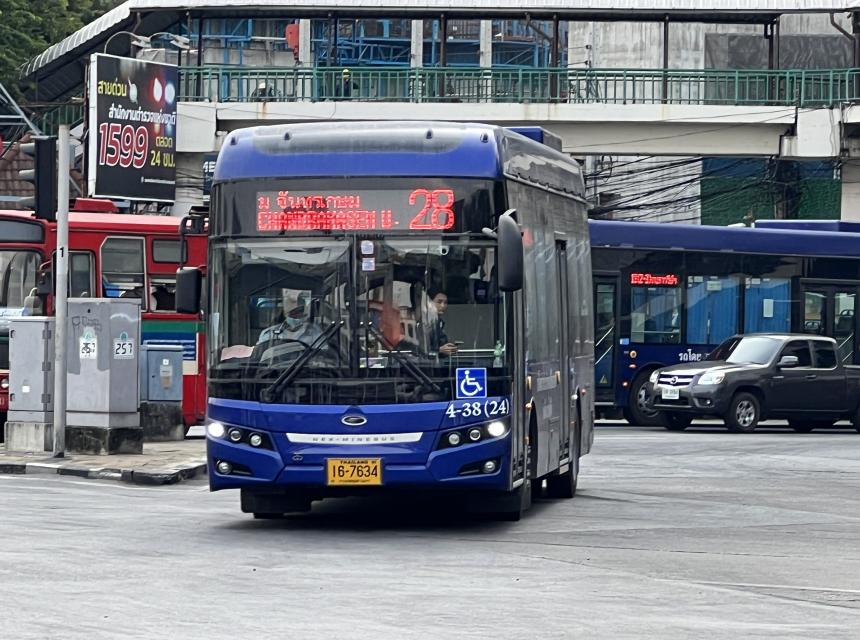Bus Line Number: (407, 184, 463, 232)
Bus Side Number: (444, 396, 508, 418)
Destination Sign: (253, 190, 402, 233)
TSB-Bus: (204, 123, 596, 522), (592, 222, 860, 428)
